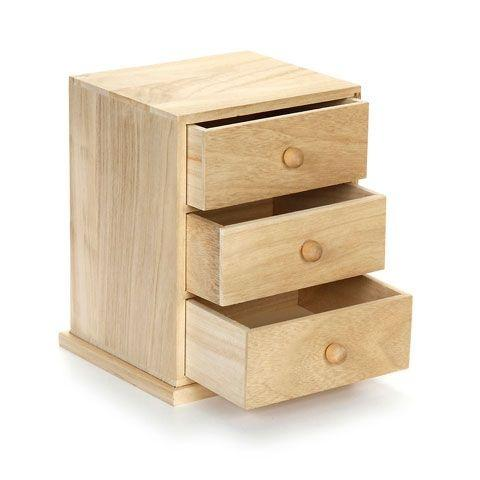cabinet_door: (191, 110, 368, 190), (220, 203, 384, 283), (248, 307, 409, 385)
handle: (298, 238, 325, 268), (323, 339, 349, 369), (281, 144, 306, 171)
